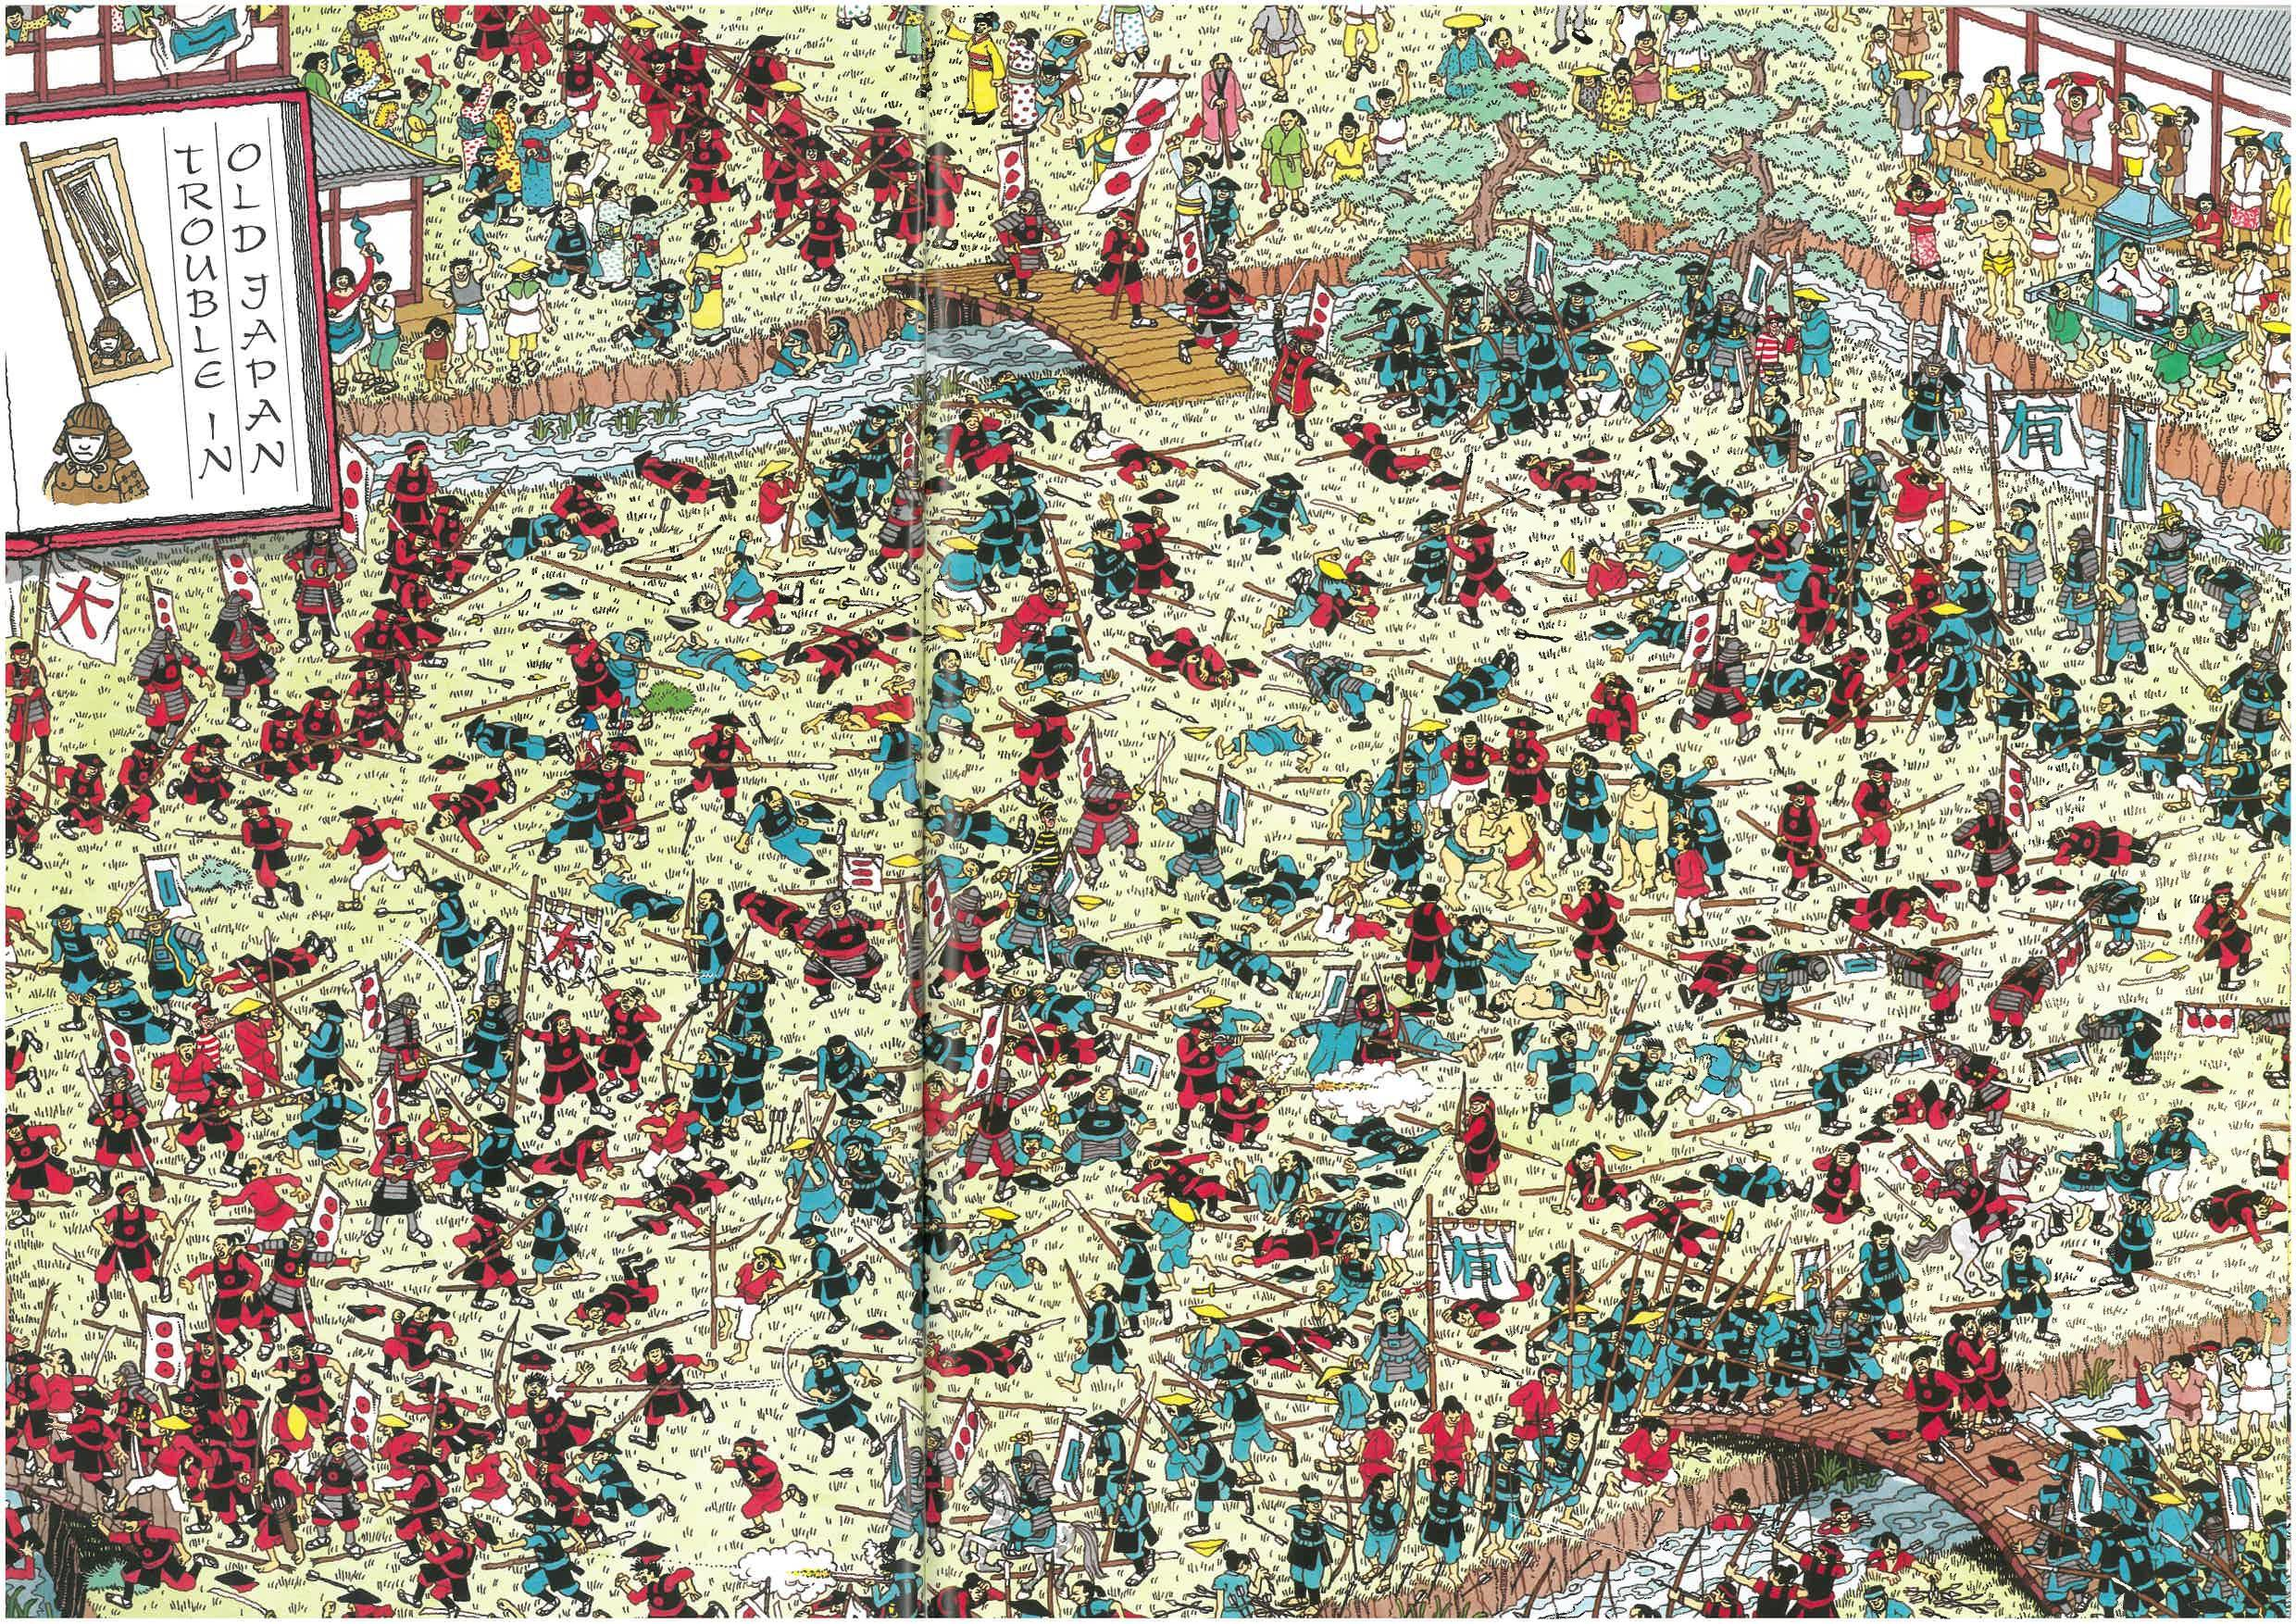waldos: (1753, 304, 1804, 404)
